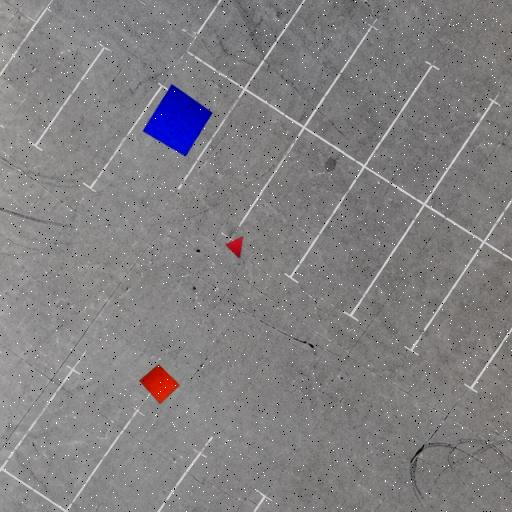BLUE_SQUARE: (142, 84, 214, 158)
RED_SQUARE: (138, 363, 180, 405)
